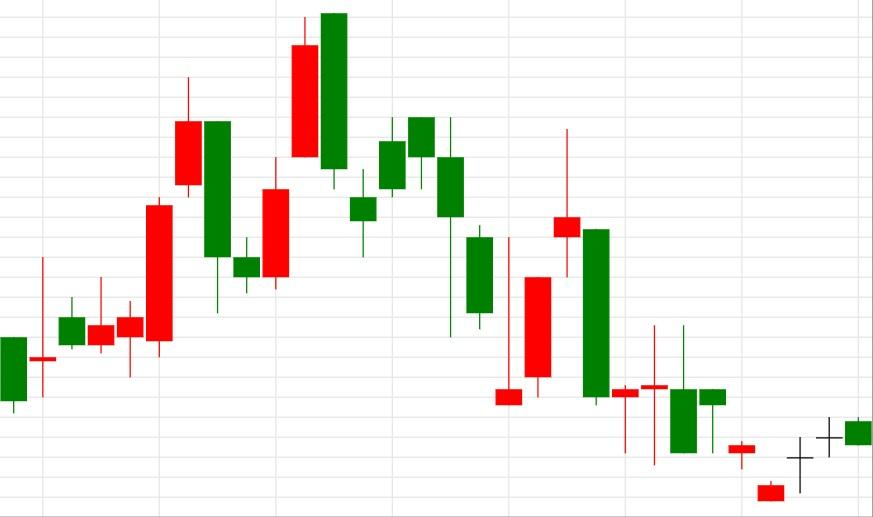bearish_engulfing_fall: (0, 13, 347, 414)
three_black_crows_fall: (349, 116, 494, 338)
